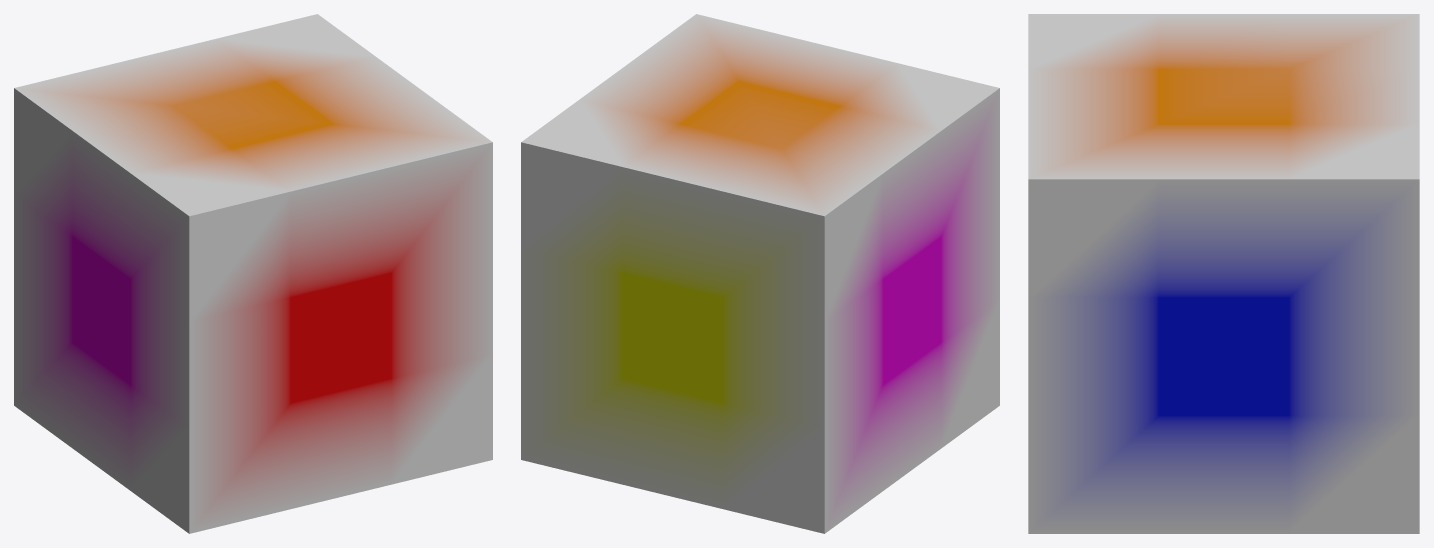
File: colourcube.obj
3 renders of one model, left to right at view 1: azimuth 30°, elevation 25°; view 2: azimuth 150°, elevation 25°; view 3: azimuth 270°, elevation 25°, orthographic. The views are drawn at different scales.
Parts seen in each view (by area): view 1: Cube; view 2: Cube; view 3: Cube.
Boxes of the visible parts, <box> form: Cube: <box>14,14,492,533</box>; Cube: <box>521,14,999,533</box>; Cube: <box>1028,14,1419,533</box>.
Size of the model in its own units: 2 by 2 by 2.
